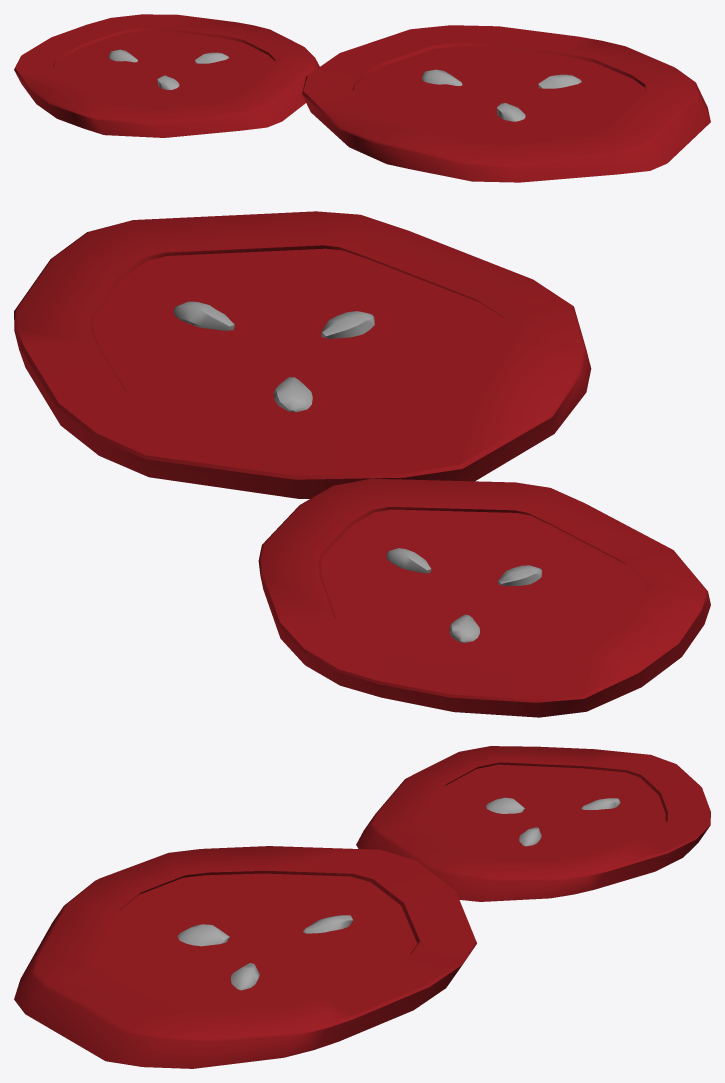
Rendered from tomatio.fbx.
The picture shows the model from 3 angles, top to bottom: view 1: azimuth 30°, elevation 25°; view 2: azimuth 150°, elevation 25°; view 3: azimuth 270°, elevation 25°; orthographic projection. The views are drawn at different scales.
Parts seen in each view (by area): view 1: Sphere.001; view 2: Sphere.001; view 3: Sphere.001.
Boxes of the visible parts, x1,y1,x2,y2 form: Sphere.001: (14, 14, 710, 182); Sphere.001: (14, 211, 710, 717); Sphere.001: (14, 746, 710, 1068).
Size of the model in its own units: 65.22 by 3.73 by 62.61.
